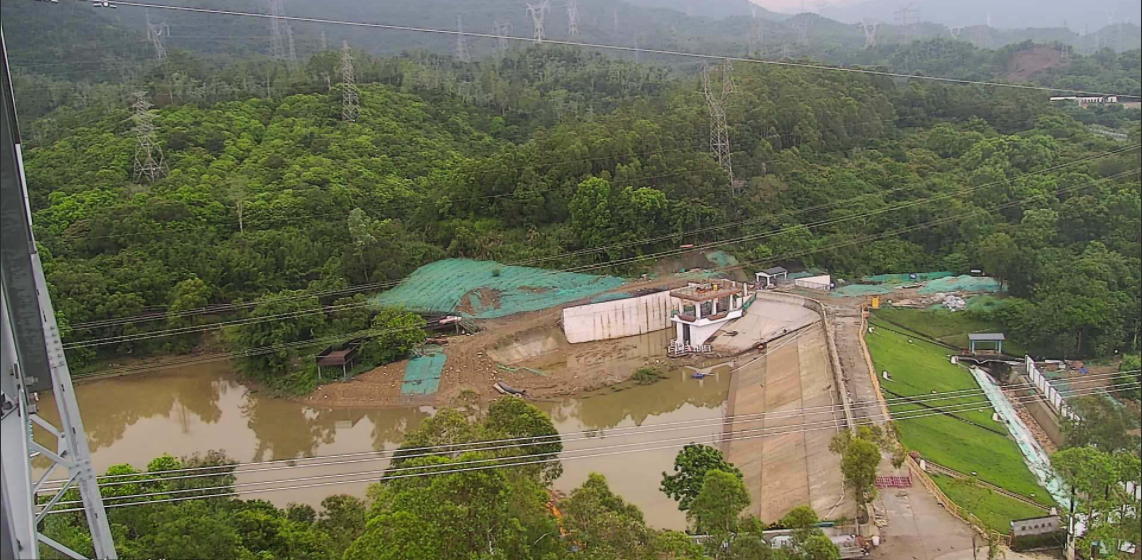绿膜: (365, 255, 627, 319), (399, 343, 447, 395), (916, 273, 1000, 295), (865, 270, 957, 286), (1040, 370, 1078, 402), (827, 283, 895, 298), (1096, 387, 1123, 410), (677, 267, 728, 279), (708, 249, 729, 267), (787, 271, 813, 278), (627, 291, 634, 297), (1002, 284, 1008, 291)
